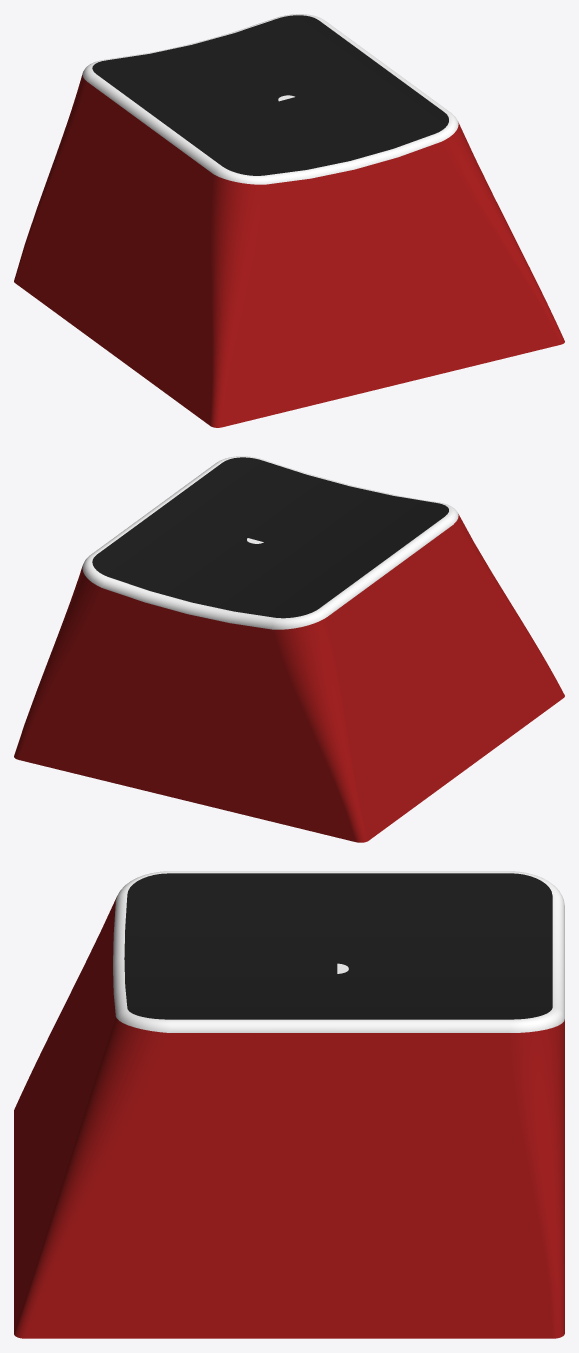
Rendered from Insert.fbx.
3 renders of one model, top to bottom at view 1: azimuth 30°, elevation 25°; view 2: azimuth 150°, elevation 25°; view 3: azimuth 270°, elevation 25°, orthographic. The views are drawn at different scales.
Visible parts, largest first — view 1: Body1; view 2: Body1; view 3: Body1.
Part boxes in pixels (x1,y1,x2,y2): Body1: [14, 14, 564, 427]; Body1: [14, 456, 564, 842]; Body1: [14, 871, 564, 1338].
Size of the model in its own units: 18 by 9.95 by 18.
